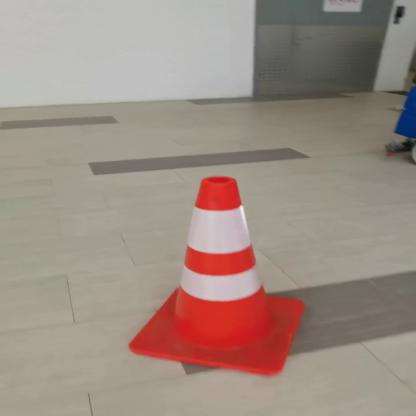cone: (120, 174, 310, 380)
